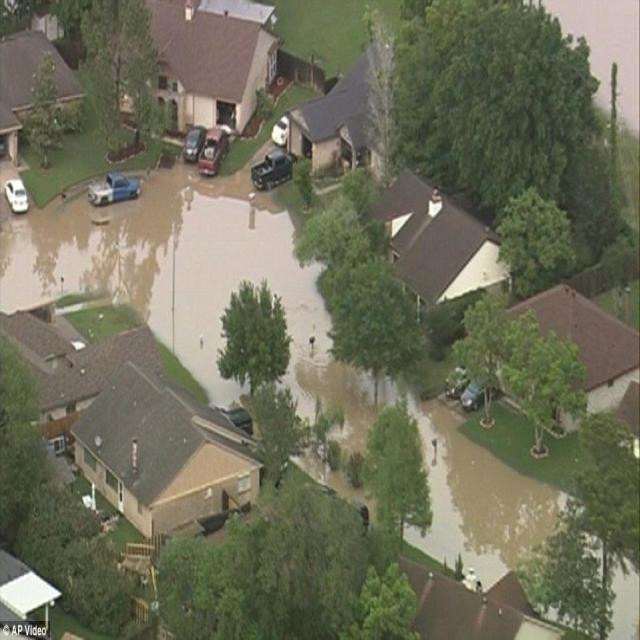flooded_areas: (6, 164, 640, 606)
